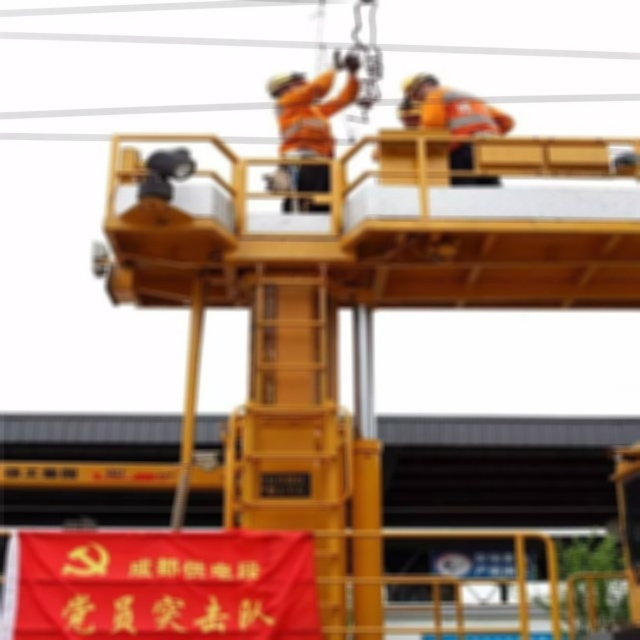Con_Chaleco: (424, 89, 511, 131), (270, 96, 334, 152)
